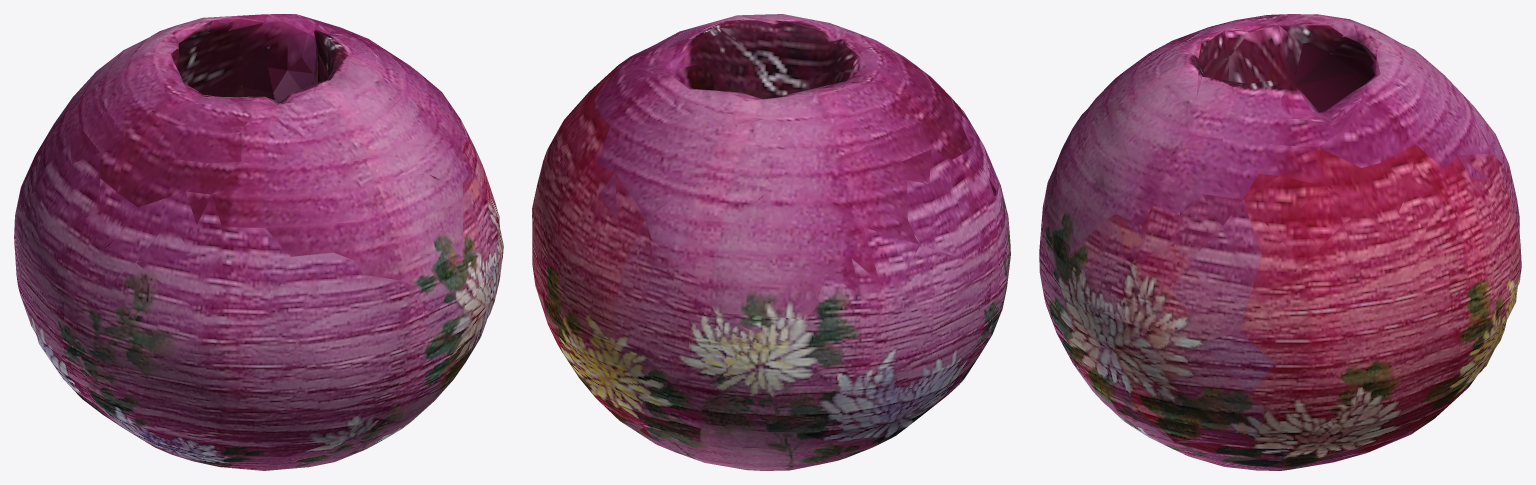
Rendered from AT4 Bobbi Chrys Outline.glb.
3 renders of one model, left to right at view 1: azimuth 30°, elevation 25°; view 2: azimuth 150°, elevation 25°; view 3: azimuth 270°, elevation 25°, orthographic.
Size of the model in its own units: 1000 by 897 by 993.
1 material, 1 textured.
